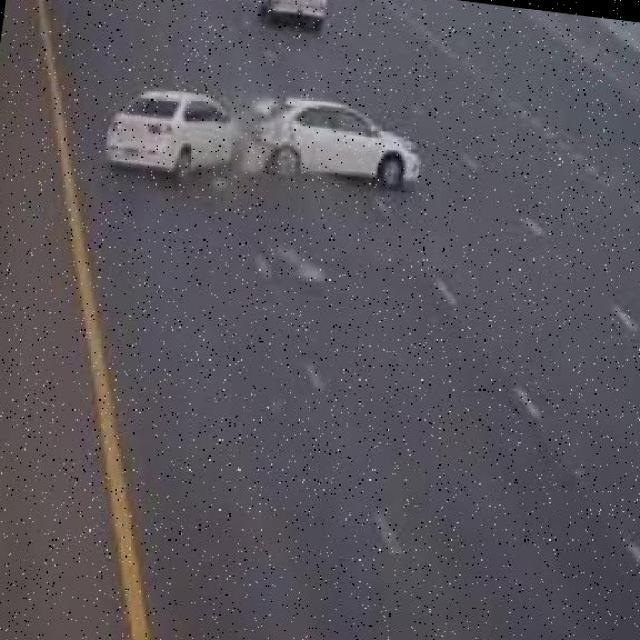accident: (101, 70, 429, 217)
